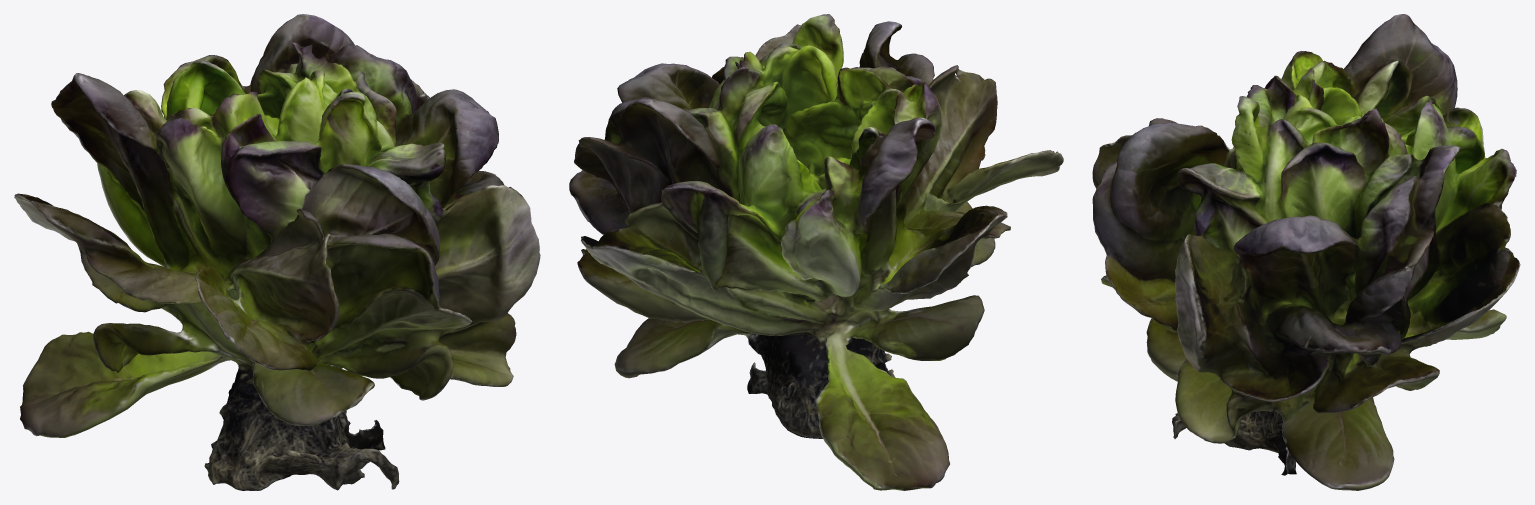
File: Vegetable_Original.fbx
3 renders of one model, left to right at view 1: azimuth 30°, elevation 25°; view 2: azimuth 150°, elevation 25°; view 3: azimuth 270°, elevation 25°, orthographic. The views are drawn at different scales.
Parts seen in each view (by area): view 1: Vegetable; view 2: Vegetable; view 3: Vegetable.
Part boxes in pixels (x1,y1,x2,y2): Vegetable: (14, 14, 540, 490); Vegetable: (569, 14, 1063, 490); Vegetable: (1092, 14, 1520, 490).
Bounding box in the file's own units: 21.84 × 18.06 × 19.45.
1 material, 1 textured.
